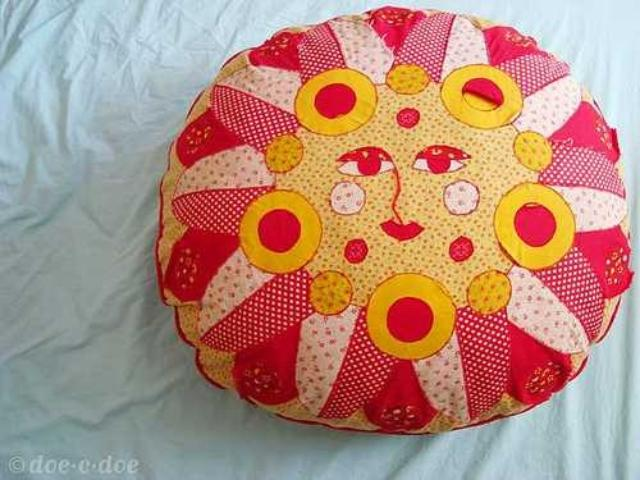pillow: (152, 5, 634, 435)
